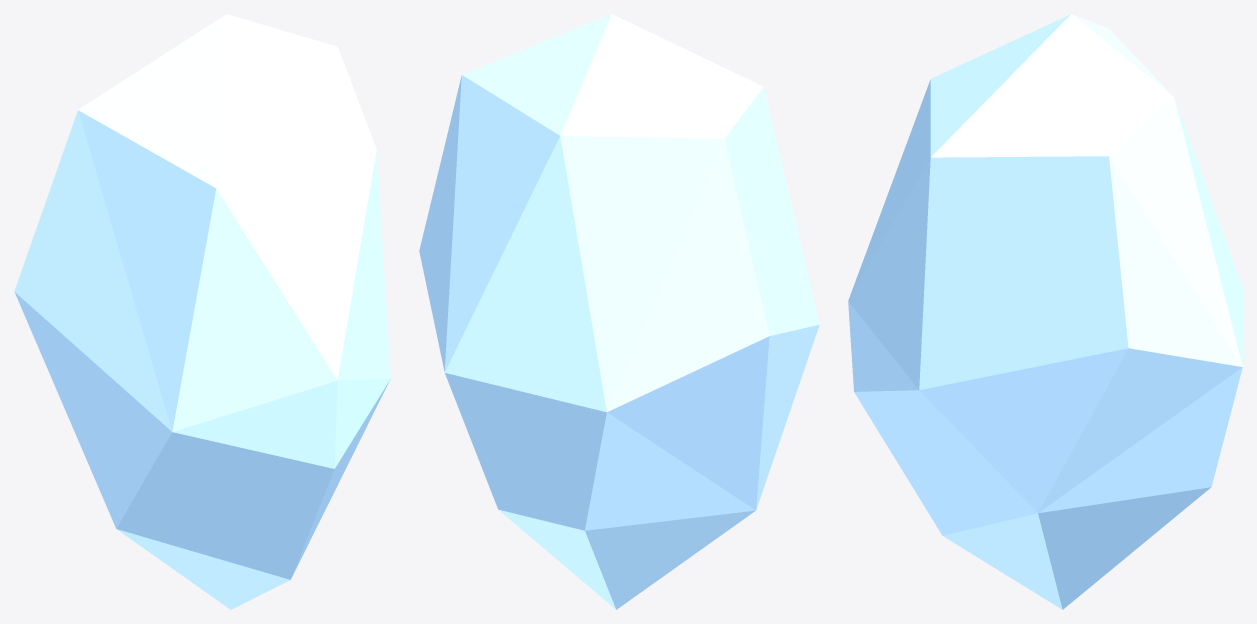
File: cristal.gltf
The picture shows the model from 3 angles, left to right: view 1: azimuth 30°, elevation 25°; view 2: azimuth 150°, elevation 25°; view 3: azimuth 270°, elevation 25°; orthographic projection.
Parts seen in each view (by area): view 1: cristal; view 2: cristal; view 3: cristal.
Part boxes in pixels (<box>): cristal: <box>14,14,390,609</box>; cristal: <box>419,14,819,609</box>; cristal: <box>848,14,1242,609</box>.
Bounding box in the file's own units: 2.27 × 3.71 × 2.23.
